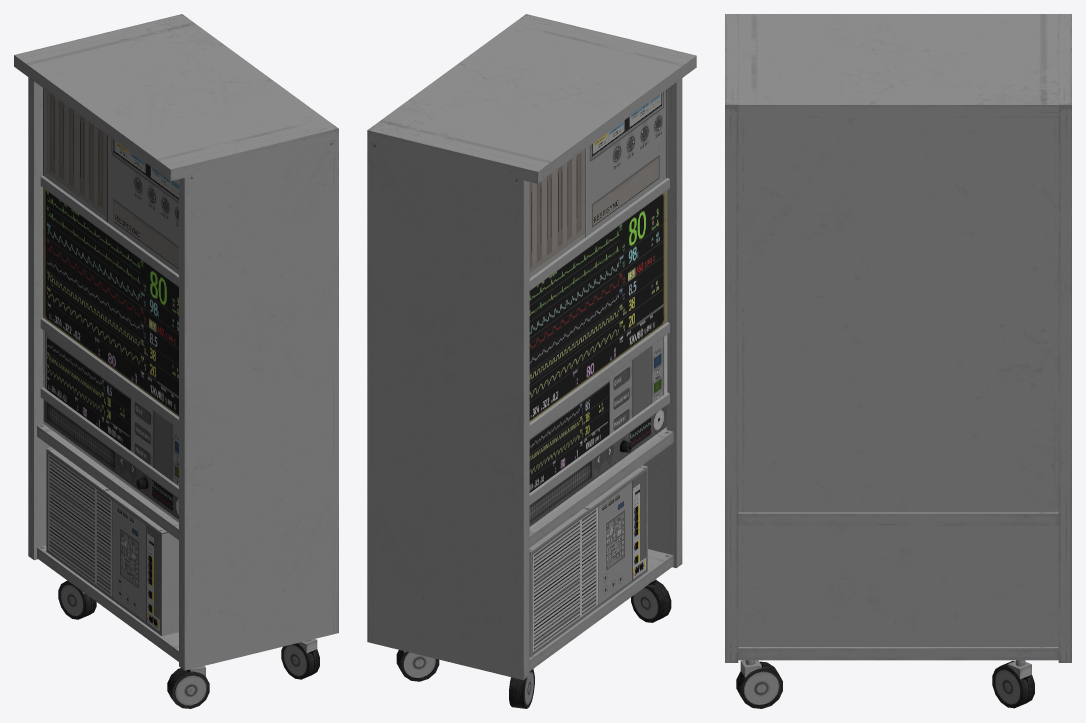
File: HH_Portable_Endoscope.fbx
3 renders of one model, left to right at view 1: azimuth 30°, elevation 25°; view 2: azimuth 150°, elevation 25°; view 3: azimuth 270°, elevation 25°, orthographic. The views are drawn at different scales.
Parts seen in each view (by area): view 1: HH_Portable_Endoscope_LOD0; view 2: HH_Portable_Endoscope_LOD0; view 3: HH_Portable_Endoscope_LOD0.
Part boxes in pixels (x1,y1,x2,y2): HH_Portable_Endoscope_LOD0: (14,14,338,708); HH_Portable_Endoscope_LOD0: (367,14,696,708); HH_Portable_Endoscope_LOD0: (725,14,1071,708).
Size of what is drawn, in the model's own units: 46.93 by 148 by 75.7.
